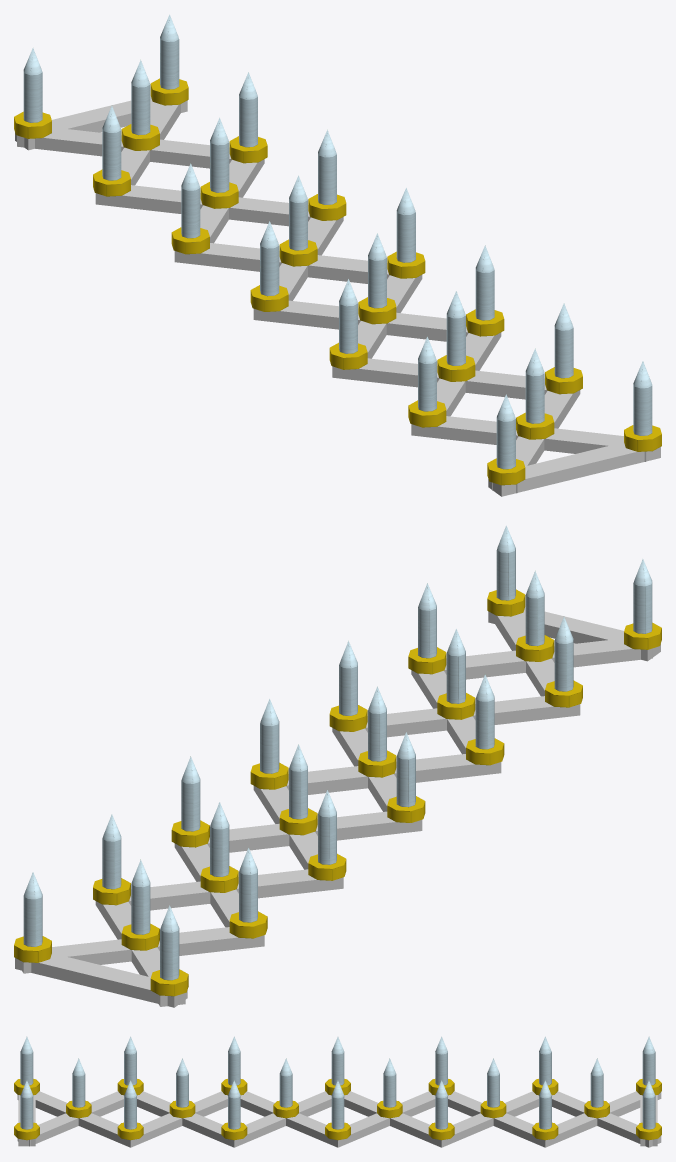
The model's file is Roadspike.FBX.
3 renders of one model, top to bottom at view 1: azimuth 30°, elevation 25°; view 2: azimuth 150°, elevation 25°; view 3: azimuth 270°, elevation 25°, orthographic. The views are drawn at different scales.
Parts seen in each view (by area): view 1: Box028, Nail003, Nail019, Nail006, Nail007, Nail009, Nail017, Nail014, Nail002, Nail010, Nail020, Nail001 (+34 smaller); view 2: Box027, Nail006, Nail020, Nail001, Nail009, Nail013, Nail019, Nail008, Nail018, Nail010, Nail003, Nail017 (+34 smaller); view 3: Nail009, Nail001, Nail017, Nail003, Nail020, Nail011, Nail012, Nail007, Nail013, Nail004, Nail015, Nail006 (+34 smaller).
Part boxes in pixels (<box>): Box028: <box>488,442,660,496</box>; Nail003: <box>516,348,554,439</box>; Nail019: <box>200,118,238,208</box>; Nail006: <box>437,291,475,381</box>; Nail007: <box>466,245,504,336</box>; Nail009: <box>387,188,425,278</box>; Nail017: <box>150,14,188,105</box>; Nail014: <box>171,163,209,254</box>; Nail002: <box>487,394,525,485</box>; Nail010: <box>250,221,288,311</box>; Nail020: <box>121,60,159,150</box>; Nail001: <box>624,361,661,451</box>; Box027: <box>15,953,187,1007</box>; Nail006: <box>437,629,475,719</box>; Nail020: <box>121,859,159,950</box>; Nail001: <box>487,525,525,616</box>; Nail009: <box>250,699,288,789</box>; Nail013: <box>171,756,209,847</box>; Nail019: <box>200,802,238,892</box>; Nail008: <box>466,674,504,765</box>; Nail018: <box>150,905,188,996</box>; Nail010: <box>387,732,425,822</box>; Nail003: <box>516,571,554,661</box>; Nail017: <box>14,872,51,962</box>; Nail009: <box>325,1080,350,1140</box>; Nail001: <box>14,1080,39,1140</box>; Nail017: <box>636,1080,661,1140</box>; Nail003: <box>66,1058,91,1118</box>; Nail020: <box>584,1058,609,1118</box>; Nail011: <box>273,1058,298,1118</box>; Nail012: <box>377,1058,402,1118</box>; Nail007: <box>221,1080,247,1140</box>; Nail013: <box>428,1080,454,1140</box>; Nail004: <box>117,1080,143,1140</box>; Nail015: <box>532,1080,558,1140</box>; Nail006: <box>169,1058,195,1118</box>.
Size of the model in its own units: 7.97 by 4.25 by 39.84.
Materials: 1 (1 with a texture image).
